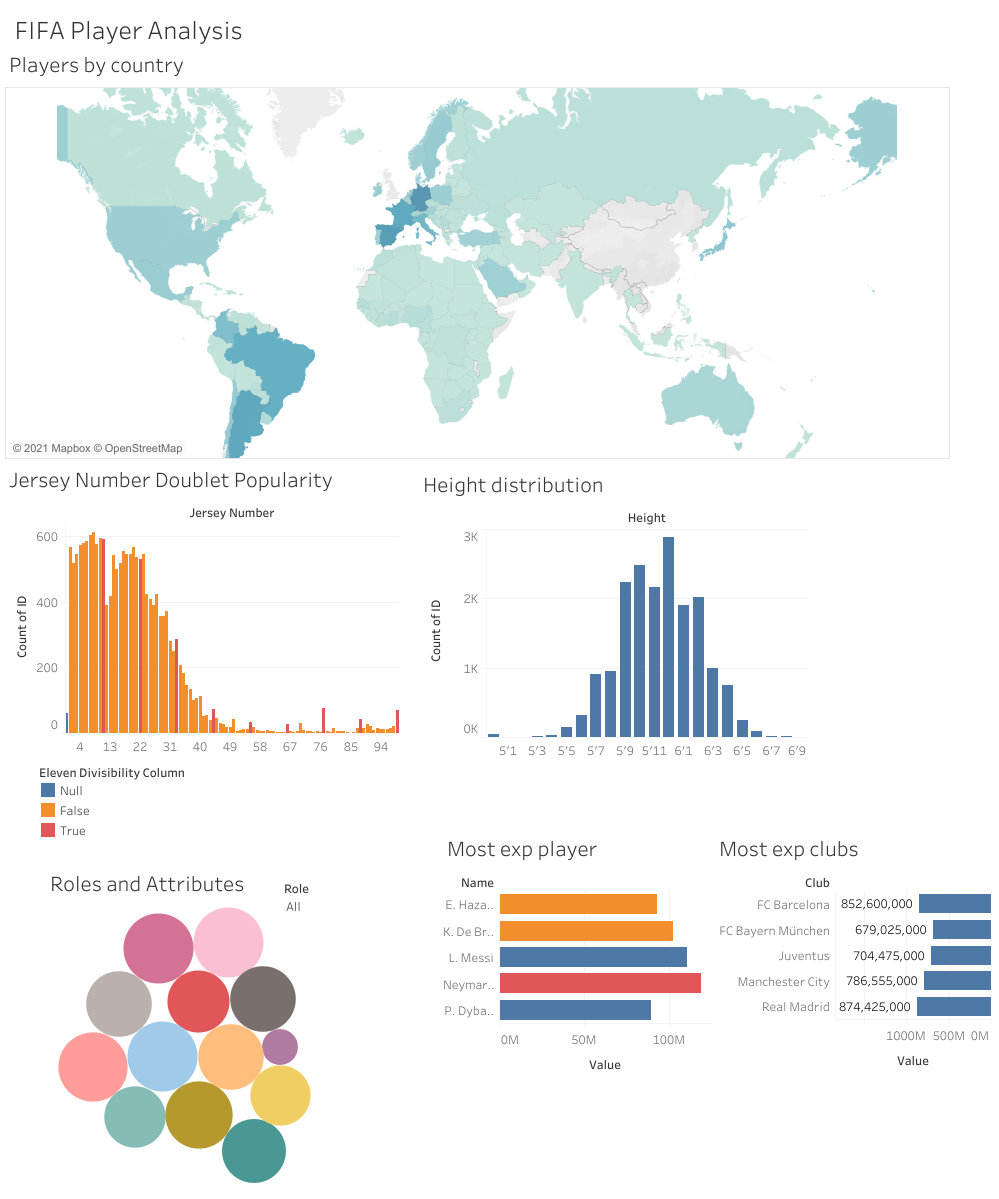

This screenshot's page, from the dashboard's own definition file:
{"tool":"tableau","page":{"name":"Dashboard 1","canvas":[1000,1200],"ordinal":0},"visuals":[{"type":"title","box":[8,8,984,42]},{"type":"worksheet","title":"Sheet 4","mark":"Automatic","box":[5,44,945,415]},{"type":"worksheet","title":"Sheet 1","mark":"Automatic","rows":["ID"],"cols":["Jersey Number"],"box":[5,459,394,295.5]},{"type":"worksheet","title":"Sheet 2","mark":"Automatic","rows":["ID"],"cols":["Height"],"box":[419,463.5,389,295.5]},{"type":"legend","title":"Sheet 1","param":"[federated.0lryag016jiuje1crhfss035fru5].[none:Calculation_338332987527979008:nk","box":[38,760.5,163,117]},{"type":"worksheet","title":"Sheet 6","mark":"Automatic","rows":["Name"],"cols":["Value"],"box":[443,828,268,252]},{"type":"worksheet","title":"Sheet 7","mark":"Automatic","rows":["Club"],"cols":["Value"],"box":[715,828,276,248]},{"type":"worksheet","title":"Sheet 5","mark":"Circle","box":[46,863,420,320]},{"type":"filter","title":"Sheet 5","param":"[federated.0lryag016jiuje1crhfss035fru5].[none:Calculation_338332987532509186:nk","box":[284,878,160,44]}]}

Visuals, with their boxes in screenshot pixels (x1, y1, x2, y2), scaled from the page's 1000x1200 canvas onto the 999x1199 screenshot:
title: x1=8 y1=8 x2=991 y2=50
"Sheet 4" worksheet: x1=5 y1=44 x2=949 y2=459
"Sheet 1" worksheet: x1=5 y1=459 x2=399 y2=754
"Sheet 2" worksheet: x1=419 y1=463 x2=807 y2=758
"Sheet 1" legend: x1=38 y1=760 x2=201 y2=877
"Sheet 6" worksheet: x1=443 y1=827 x2=710 y2=1079
"Sheet 7" worksheet: x1=714 y1=827 x2=990 y2=1075
"Sheet 5" worksheet (Circle marks): x1=46 y1=862 x2=466 y2=1182
"Sheet 5" filter: x1=284 y1=877 x2=444 y2=921
